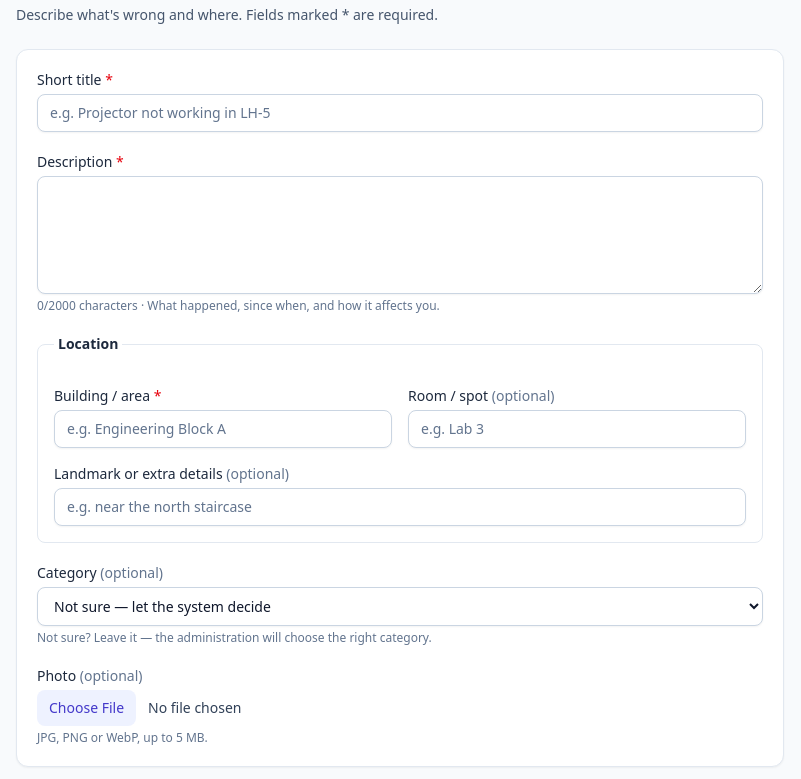
it: NewComplaintPage › shows server-side errors next to the right field
This screenshot has width=801, height=779.
Type "Fan not working" into the field labelled "Short title *".
click(400, 113); type("Fan not working")  # box [37,94,763,132]
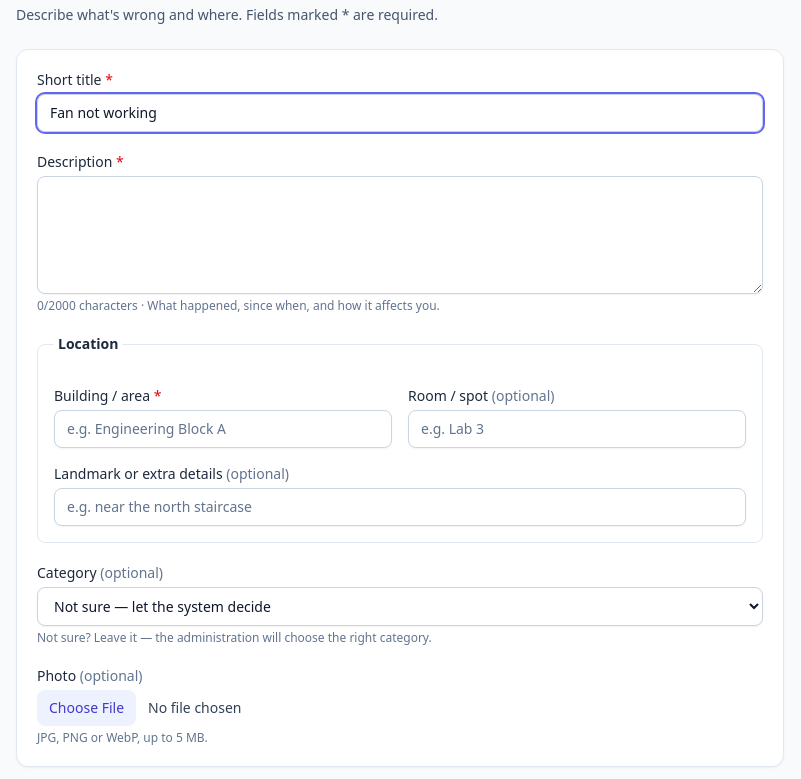
Type "The ceiling fan in room 101 is not working at all." into the text box labelled "Description *".
click(400, 235); type("The ceiling fan in room 101 is not working at all.")  # box [37,176,763,294]
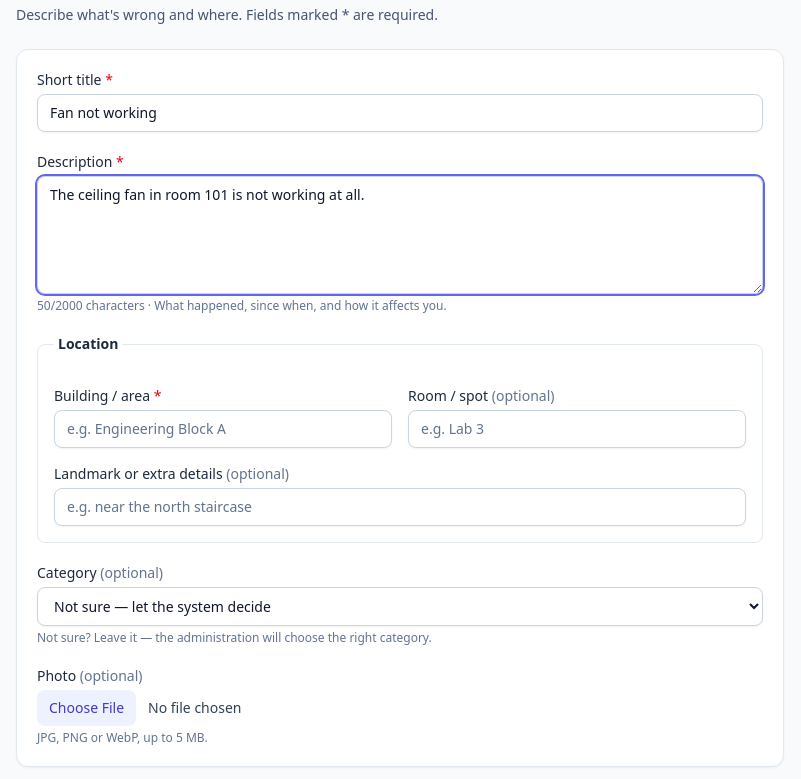
Type "Main Building" into the field labelled "Building / area *".
click(223, 429); type("Main Building")  # box [54,410,392,448]
(page scrolled)
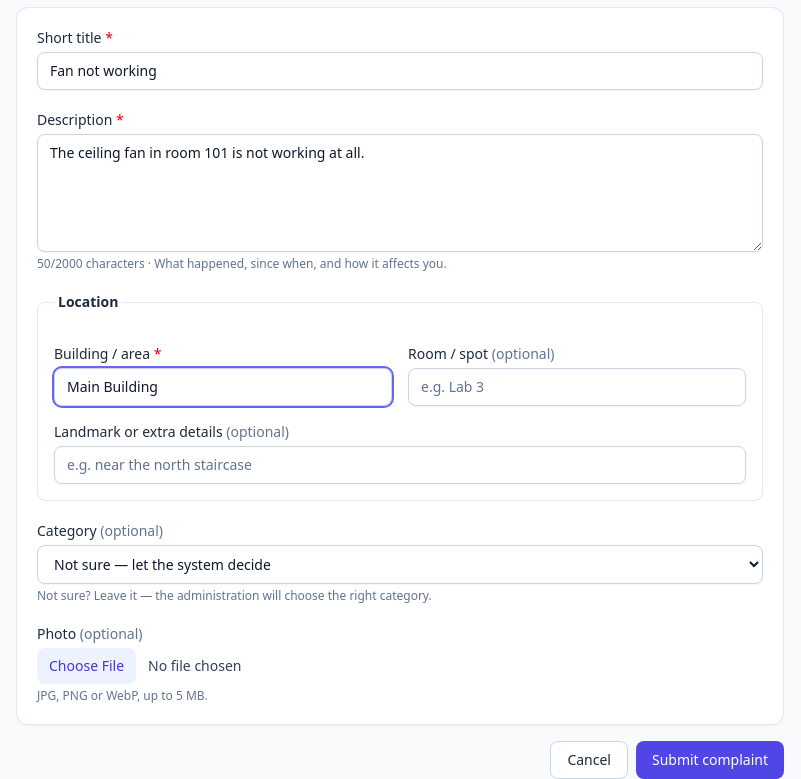
Click the button "Submit complaint".
click(710, 760)  # box [636,741,784,778]
(page scrolled)
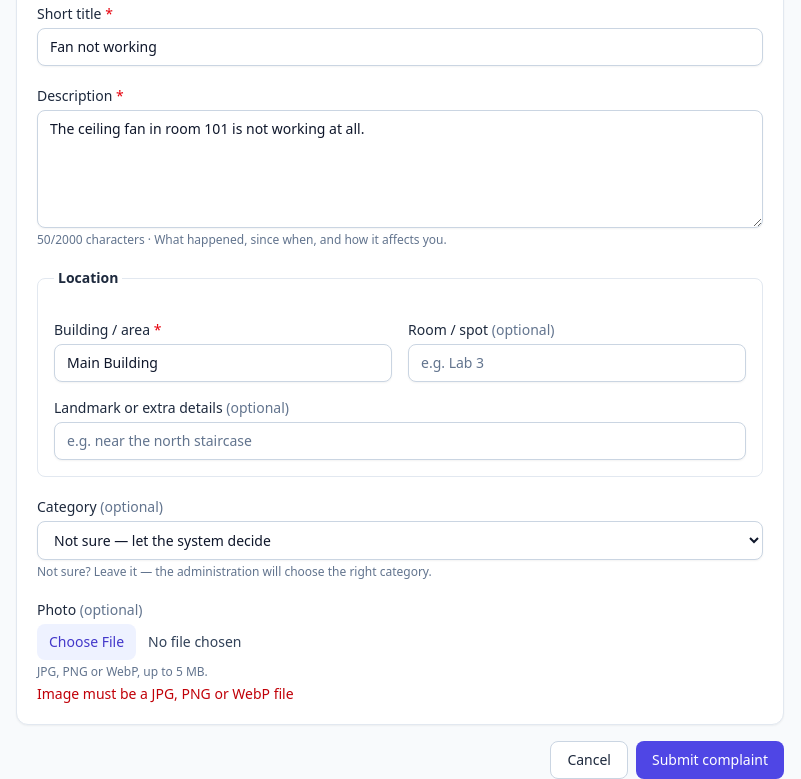
Result: the text "Image must be a JPG, PNG or WebP file" is shown at [37,684,294,703]
